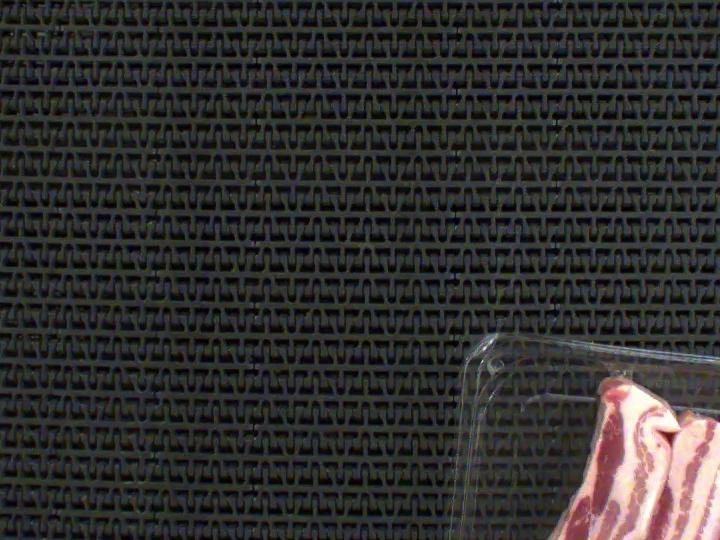packaging-error: (594, 352, 642, 390)
